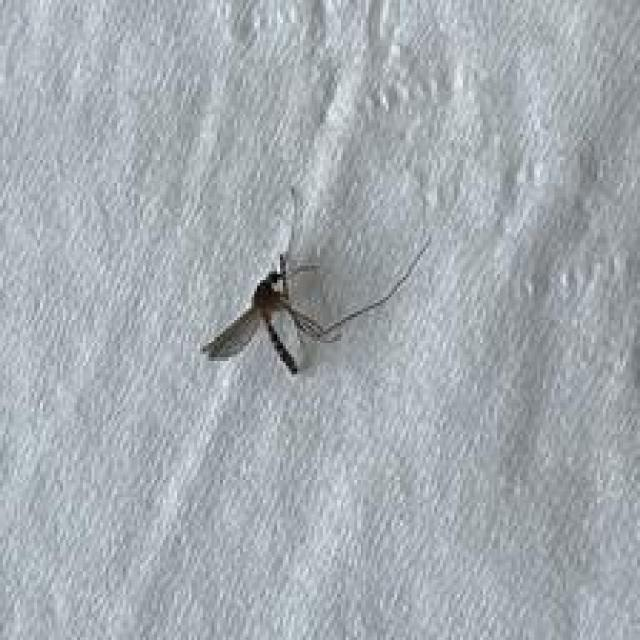Culex: (200, 186, 431, 377)
